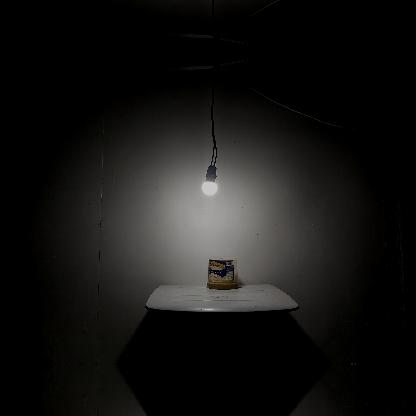Lady-s-Choice: (206, 255, 240, 289)
